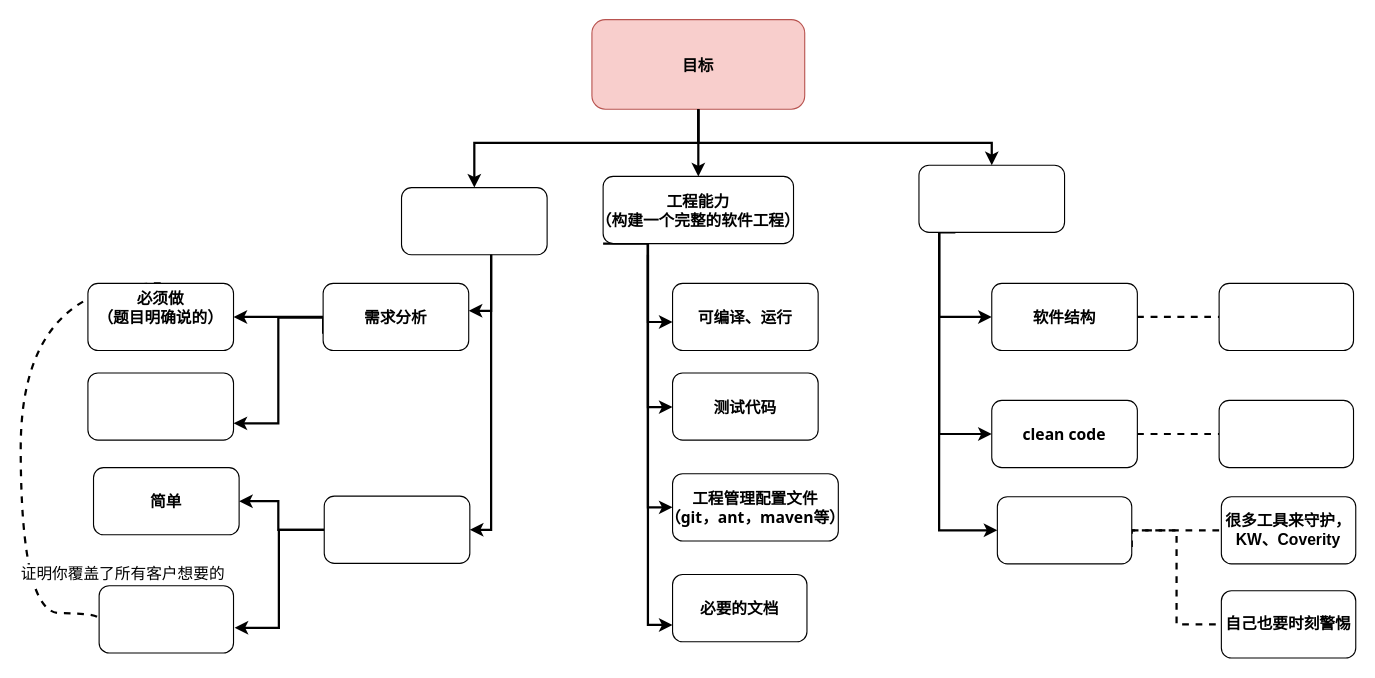
The diagram is 1375 pixels wide and 678 high, and some of its shapes have lost their labels. Here are the shapes that lost their labels. From the top down, the box of each, then its label:
(918, 164, 1065, 232): 编码能力
(400, 186, 547, 255): 思维训练
(1218, 282, 1354, 351): 分包
(87, 372, 234, 440): 可能要做的 （挖掘客户需求） 需要写吗？
(323, 495, 470, 563): 测试设计
(996, 496, 1132, 564): 安全
(98, 585, 234, 653): 全面
